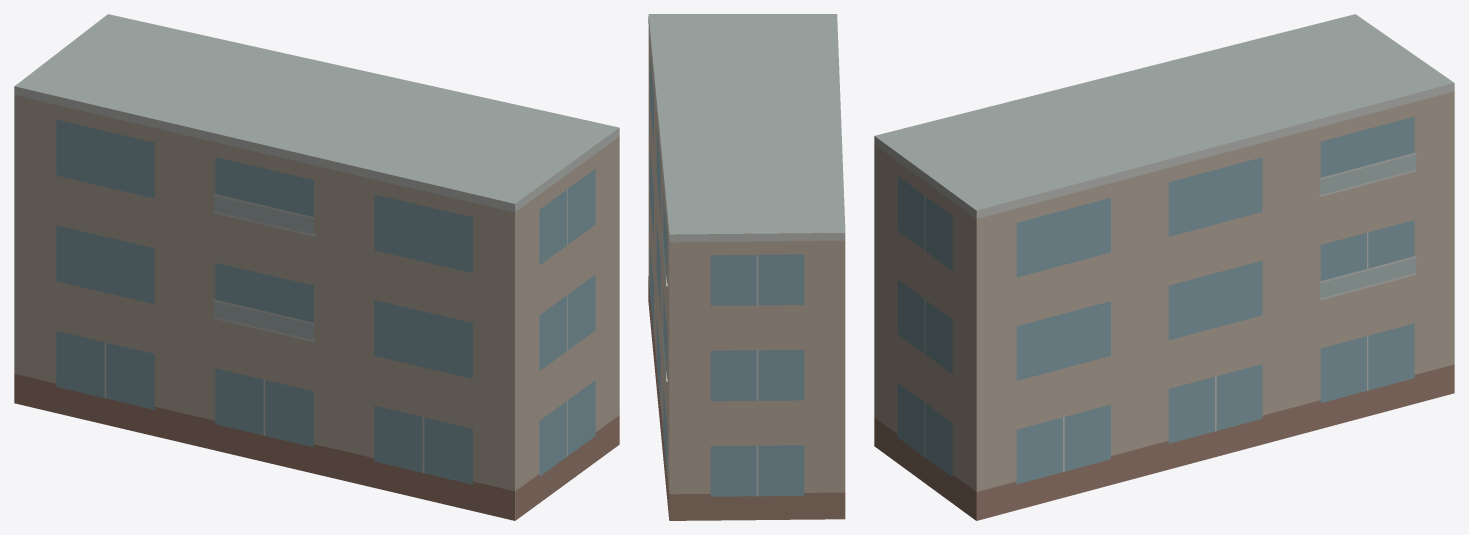
The model's file is survey-upis-32511976.glb.
3 renders of one model, left to right at view 1: azimuth 30°, elevation 25°; view 2: azimuth 150°, elevation 25°; view 3: azimuth 270°, elevation 25°, orthographic. The views are drawn at different scales.
Visible parts, largest first — view 1: survey-upis-32511976.tmp; view 2: survey-upis-32511976.tmp; view 3: survey-upis-32511976.tmp.
Boxes of the visible parts, x1,y1,x2,y2 form: survey-upis-32511976.tmp: [14, 14, 619, 520]; survey-upis-32511976.tmp: [648, 14, 845, 520]; survey-upis-32511976.tmp: [874, 14, 1454, 520].
Bounding box in the file's own units: 12.24 × 9 × 15.27.
